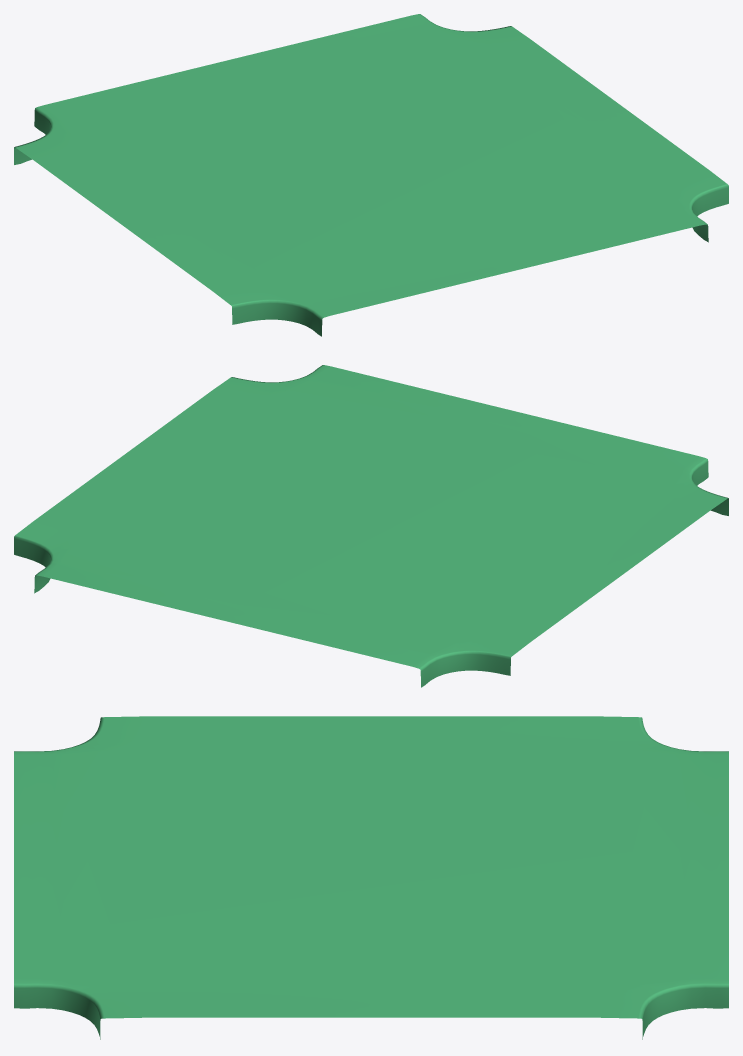
The model's file is PoolTableField.fbx.
The picture shows the model from 3 angles, top to bottom: view 1: azimuth 30°, elevation 25°; view 2: azimuth 150°, elevation 25°; view 3: azimuth 270°, elevation 25°; orthographic projection. The views are drawn at different scales.
Visible parts, largest first — view 1: PoolTableField; view 2: PoolTableField; view 3: PoolTableField.
Part boxes in pixels (x1,y1,x2,y2): PoolTableField: (14,14,728,336); PoolTableField: (14,365,728,687); PoolTableField: (14,716,728,1039).
Bounding box in the file's own units: 87.21 × 3.32 × 87.43.
Materials: 1 (1 with a texture image).
